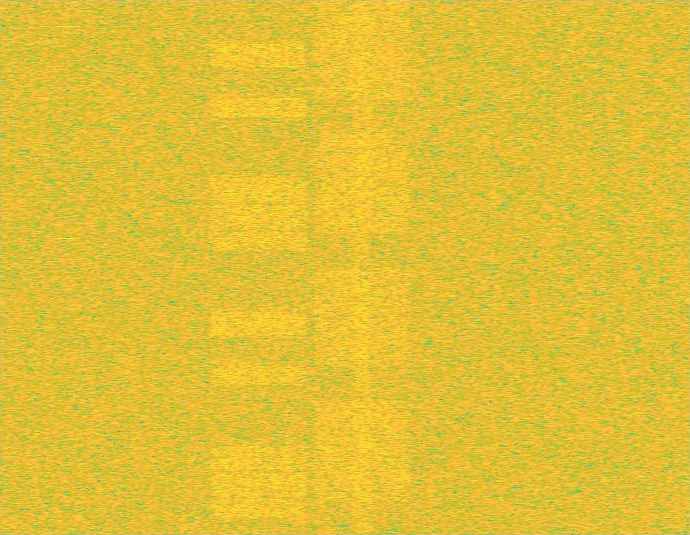5G: (311, 0, 414, 534)
DSSS: (351, 0, 374, 534)
LTE: (207, 0, 311, 534)
Radar: (60, 0, 73, 534)
